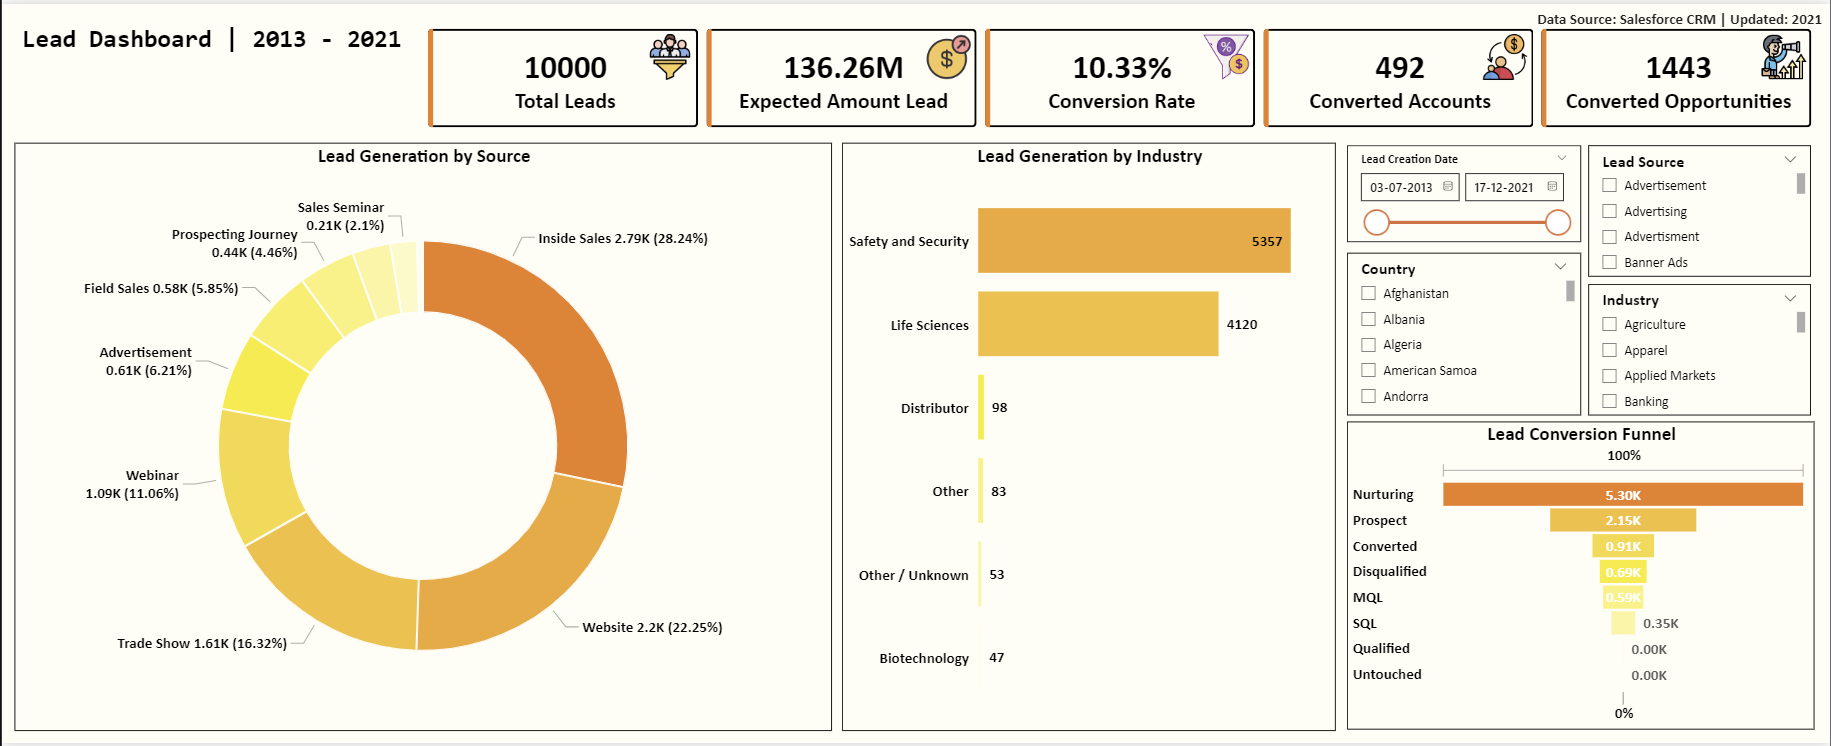

The dashboard page shown, as its layout file describes it:
{"tool":"powerbi","page":{"name":"Lead Dashboard","canvas":[1780,720],"ordinal":0},"visuals":[{"type":"cardVisual","fields":{"Data":["Lead.Total Leads","Opportunity.Expected Amount Lead","Lead.Conversion Rate %","Account.Converted Accounts","Opportunity.Converted Opportunities"]},"box":[397.5,7.4,1382.8,130.1],"z":0},{"type":"donutChart","title":"Lead Generation by Source","fields":{"Category":["Lead.Lead Source"],"Y":["CountNonNull(Lead.Lead ID)"]},"box":[12.3,135,796.3,573],"z":1000},{"type":"clusteredBarChart","title":"Lead Generation by Industry","fields":{"Category":["Lead.Industry"],"Y":["CountNonNull(Lead.Lead ID)"]},"box":[818.4,135,481,573],"z":2000},{"type":"funnel","title":"Lead Conversion Funnel","fields":{"Category":["Lead.Status"],"Y":["CountNonNull(Lead.Lead ID)"]},"box":[1309.7,406.9,455.6,300],"z":3000},{"type":"slicer","fields":{"Values":["Lead.Created Date"]},"box":[1309.7,137.5,227.8,94],"z":4000},{"type":"slicer","fields":{"Values":["Lead.Industry"]},"box":[1544.5,272.2,216.7,128],"z":5000},{"type":"slicer","fields":{"Values":["Lead.Country"]},"box":[1309.7,241.7,227.8,158.3],"z":6000},{"type":"slicer","fields":{"Values":["Lead.Lead Source"]},"box":[1544.5,137.5,216.7,128],"z":7000},{"type":"textbox","box":[1490.3,0,290.3,37.5],"z":8000},{"type":"image","box":[627.8,28.9,44.4,44.4],"z":9000},{"type":"image","box":[1170.1,28.9,44.4,44.4],"z":10000},{"type":"image","box":[899,28.9,44.4,44.4],"z":11000},{"type":"image","box":[1441.3,28.9,44.4,44.4],"z":12000},{"type":"image","box":[1712.5,28.9,44.4,44.4],"z":13000},{"type":"textbox","box":[11.1,19.4,386.1,101.4],"z":14000}]}

Visuals, with their boxes in screenshot pixels (x1, y1, x2, y2), scaled from the page's 1780x720 canvas onto the 1831x746 screenshot:
cardVisual - Lead.Total Leads x Opportunity.Expected Amount Lead: (x1=409, y1=8, x2=1830, y2=142)
"Lead Generation by Source" donutChart: (x1=13, y1=140, x2=832, y2=734)
"Lead Generation by Industry" clusteredBarChart: (x1=842, y1=140, x2=1337, y2=734)
"Lead Conversion Funnel" funnel: (x1=1347, y1=422, x2=1816, y2=732)
slicer - Lead.Created Date: (x1=1347, y1=142, x2=1582, y2=240)
slicer - Lead.Industry: (x1=1589, y1=282, x2=1812, y2=415)
slicer - Lead.Country: (x1=1347, y1=250, x2=1582, y2=414)
slicer - Lead.Lead Source: (x1=1589, y1=142, x2=1812, y2=275)
textbox: (x1=1533, y1=0, x2=1830, y2=39)
image: (x1=646, y1=30, x2=691, y2=76)
image: (x1=1204, y1=30, x2=1249, y2=76)
image: (x1=925, y1=30, x2=970, y2=76)
image: (x1=1483, y1=30, x2=1528, y2=76)
image: (x1=1762, y1=30, x2=1807, y2=76)
textbox: (x1=11, y1=20, x2=409, y2=125)
